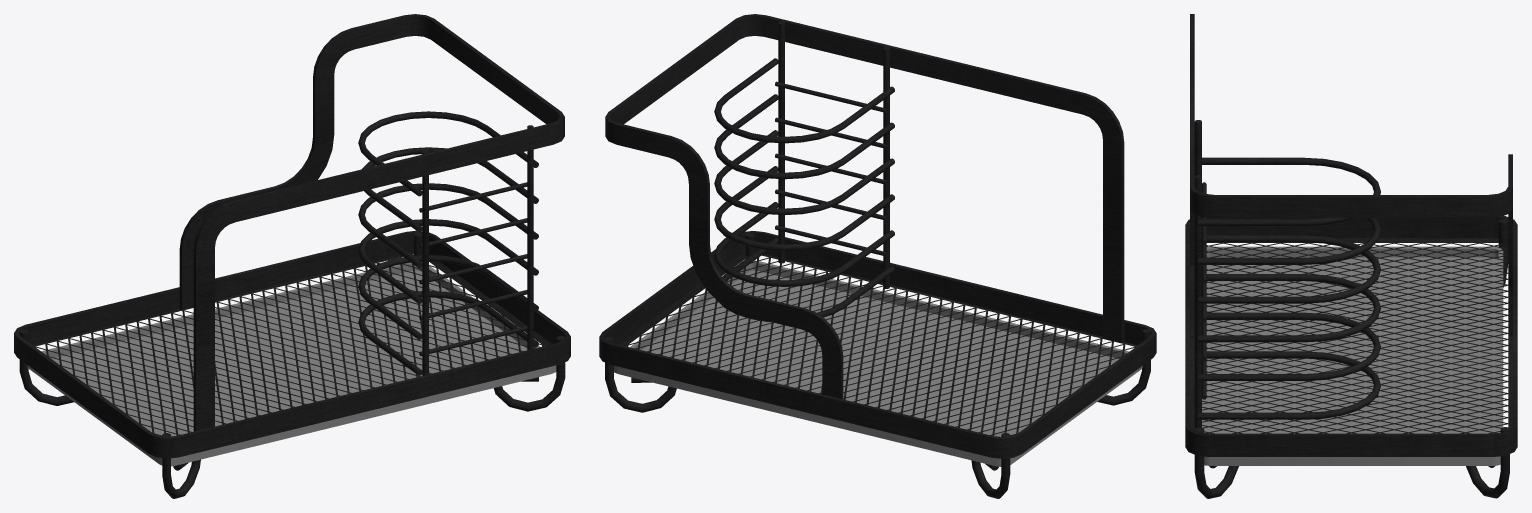
Rendered from 121 - ja ghashoghi meshki.glb.
3 renders of one model, left to right at view 1: azimuth 30°, elevation 25°; view 2: azimuth 150°, elevation 25°; view 3: azimuth 270°, elevation 25°, orthographic. The views are drawn at different scales.
Parts seen in each view (by area): view 1: Group#135 [43304], Group#129 [43301], Group#131 [43311], Group#130 [43317], Group#134 [43302] (×6), Group#132 [43299] (×2), Group#136 [43305] (×3); view 2: Group#135 [43304], Group#131 [43311], Group#129 [43301], Group#130 [43317], Group#134 [43302] (×6), Group#132 [43299] (×2), Group#136 [43305] (×3); view 3: Group#135 [43304], Group#130 [43317], Group#134 [43302] (×6), Group#129 [43301], Group#131 [43311], Group#136 [43305] (×3), Group#132 [43299] (×2).
Part boxes in pixels (<box>): Group#135 [43304]: <box>27,262,556,466</box>; Group#129 [43301]: <box>14,230,570,458</box>; Group#131 [43311]: <box>179,14,564,431</box>; Group#130 [43317]: <box>33,253,551,435</box>; Group#134 [43302] (×6): <box>358,111,538,375</box>; Group#132 [43299] (×2): <box>422,125,533,375</box>; Group#136 [43305] (×3): <box>19,329,565,498</box>; Group#135 [43304]: <box>614,260,1142,466</box>; Group#131 [43311]: <box>605,14,1124,399</box>; Group#129 [43301]: <box>599,231,1156,458</box>; Group#130 [43317]: <box>618,253,1137,436</box>; Group#134 [43302] (×6): <box>714,58,894,321</box>; Group#132 [43299] (×2): <box>778,21,889,288</box>; Group#136 [43305] (×3): <box>605,329,1150,498</box>; Group#135 [43304]: <box>1202,246,1503,465</box>; Group#130 [43317]: <box>1190,238,1512,433</box>; Group#134 [43302] (×6): <box>1198,157,1380,419</box>; Group#129 [43301]: <box>1185,216,1517,456</box>; Group#131 [43311]: <box>1190,14,1512,336</box>; Group#136 [43305] (×3): <box>1194,219,1509,498</box>; Group#132 [43299] (×2): <box>1194,120,1201,428</box>.
Size of the model in its own units: 0.22 by 0.1471 by 0.14.
Materials: 3 (2 with a texture image).
